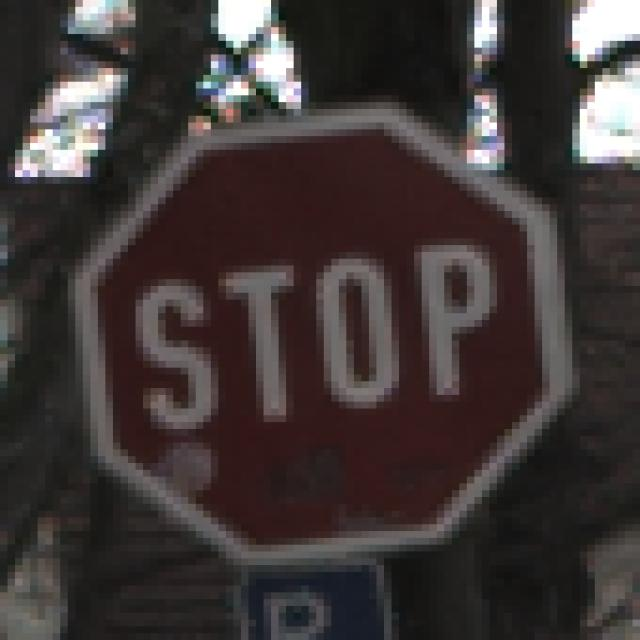STOP: (54, 55, 588, 580)
